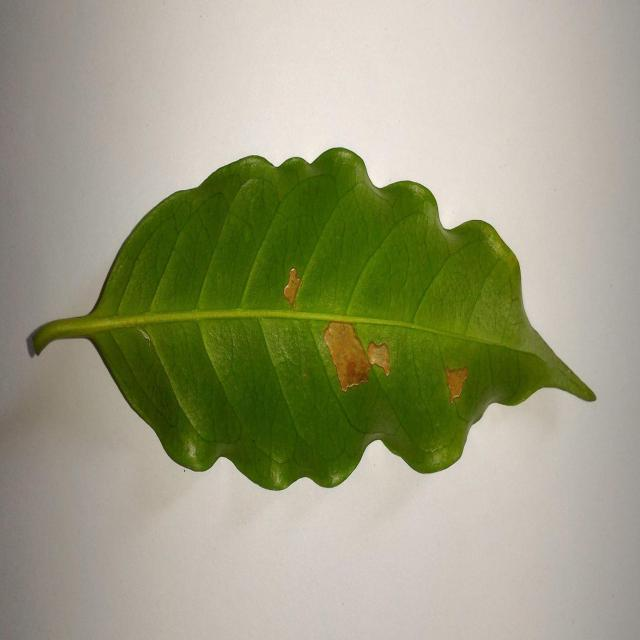miner: (324, 321, 390, 392), (445, 365, 468, 404), (283, 267, 302, 310)
